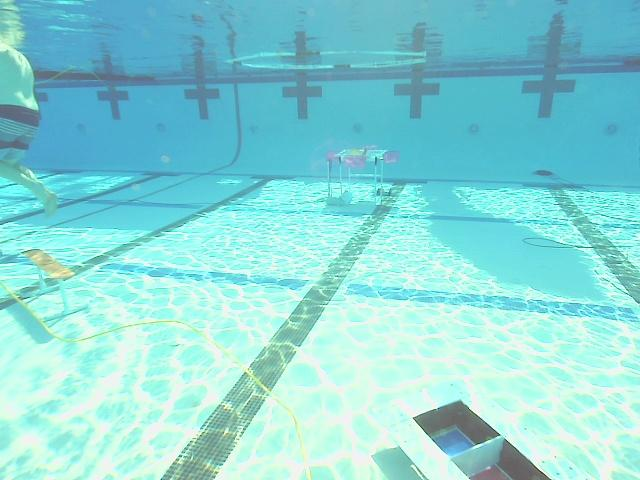dropper: (388, 379, 604, 479)
table: (326, 145, 399, 207)
